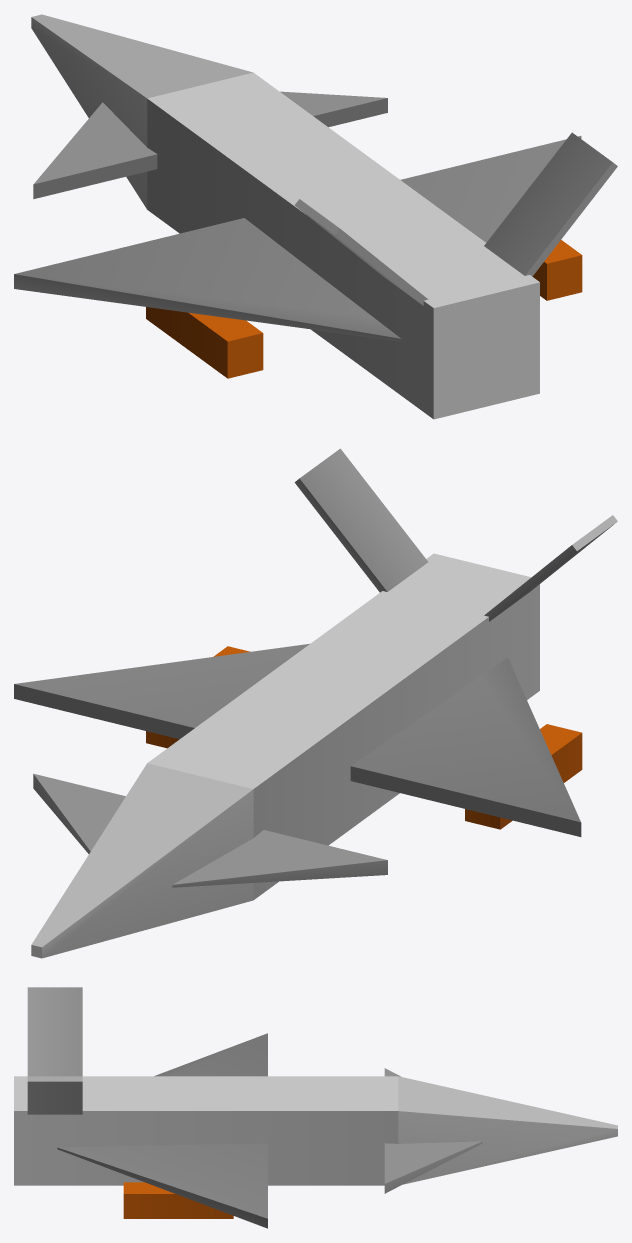
Rendered from fighter-body.glb.
The picture shows the model from 3 angles, top to bottom: view 1: azimuth 30°, elevation 25°; view 2: azimuth 150°, elevation 25°; view 3: azimuth 270°, elevation 25°; orthographic projection. The views are drawn at different scales.
Visible parts, largest first — view 1: mesh0; view 2: mesh0; view 3: mesh0.
Boxes of the visible parts, box(x1,y1,x2,y2) form: mesh0: box(14, 14, 617, 419); mesh0: box(14, 448, 617, 958); mesh0: box(14, 987, 617, 1228).
Bounding box in the file's own units: 0.32 × 0.1097 × 0.44.
